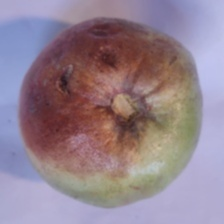guava: (55, 10, 190, 171)
